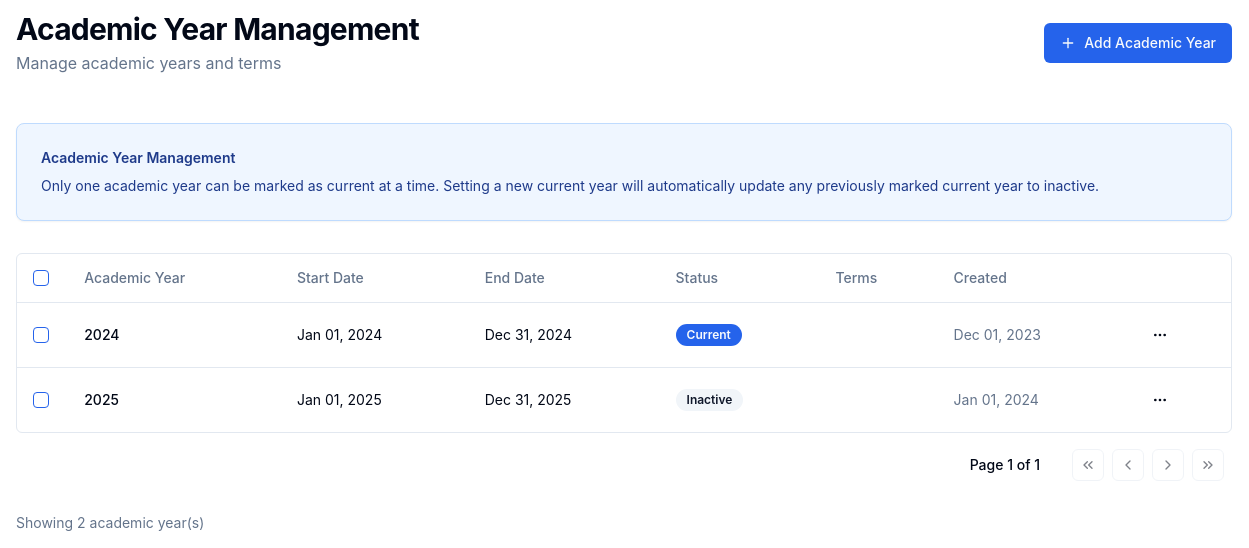
Scenario: AcademicYearManagementPage › CRUD Operations › should open edit dialog when Edit button is clicked
Check: the text "2024" is shown, box [84,326,120,342]
Step 1. Click the button named "open menu" in the row of "Dec 31, 2024" → x=1160, y=334, box [1144,318,1176,350]
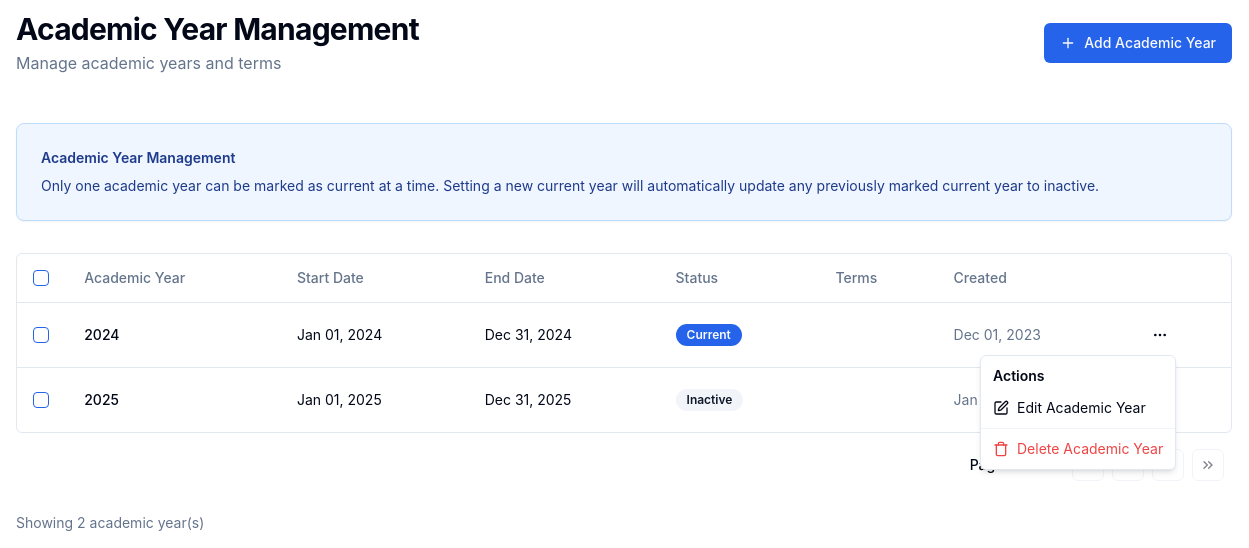
Check: the menu item "Edit Academic Year" is shown, box [993,399,1146,416]
